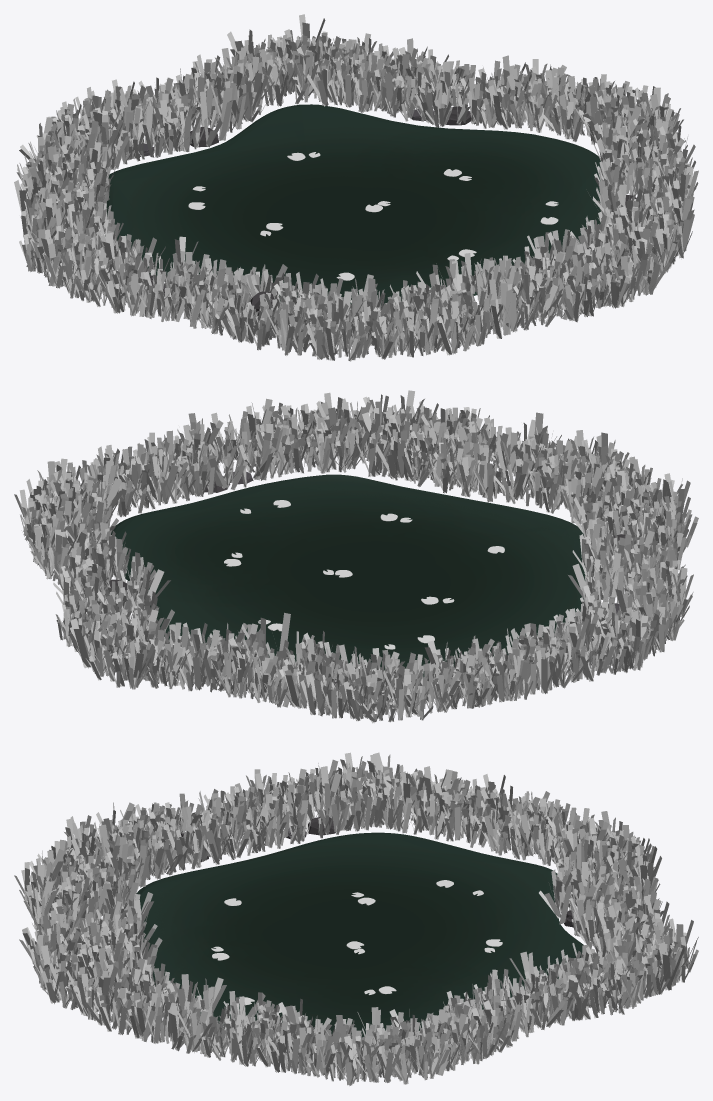
The model's file is waterlake_fuckingbig.fbx.
3 renders of one model, top to bottom at view 1: azimuth 30°, elevation 25°; view 2: azimuth 150°, elevation 25°; view 3: azimuth 270°, elevation 25°, orthographic. The views are drawn at different scales.
Visible parts, largest first — view 1: NurbsPath; view 2: NurbsPath; view 3: NurbsPath.
Part boxes in pixels (bbox=[...]): NurbsPath: bbox=[14, 14, 698, 361]; NurbsPath: bbox=[14, 390, 698, 723]; NurbsPath: bbox=[14, 752, 698, 1085].
Bounding box in the file's own units: 10166 × 785 × 9780.
